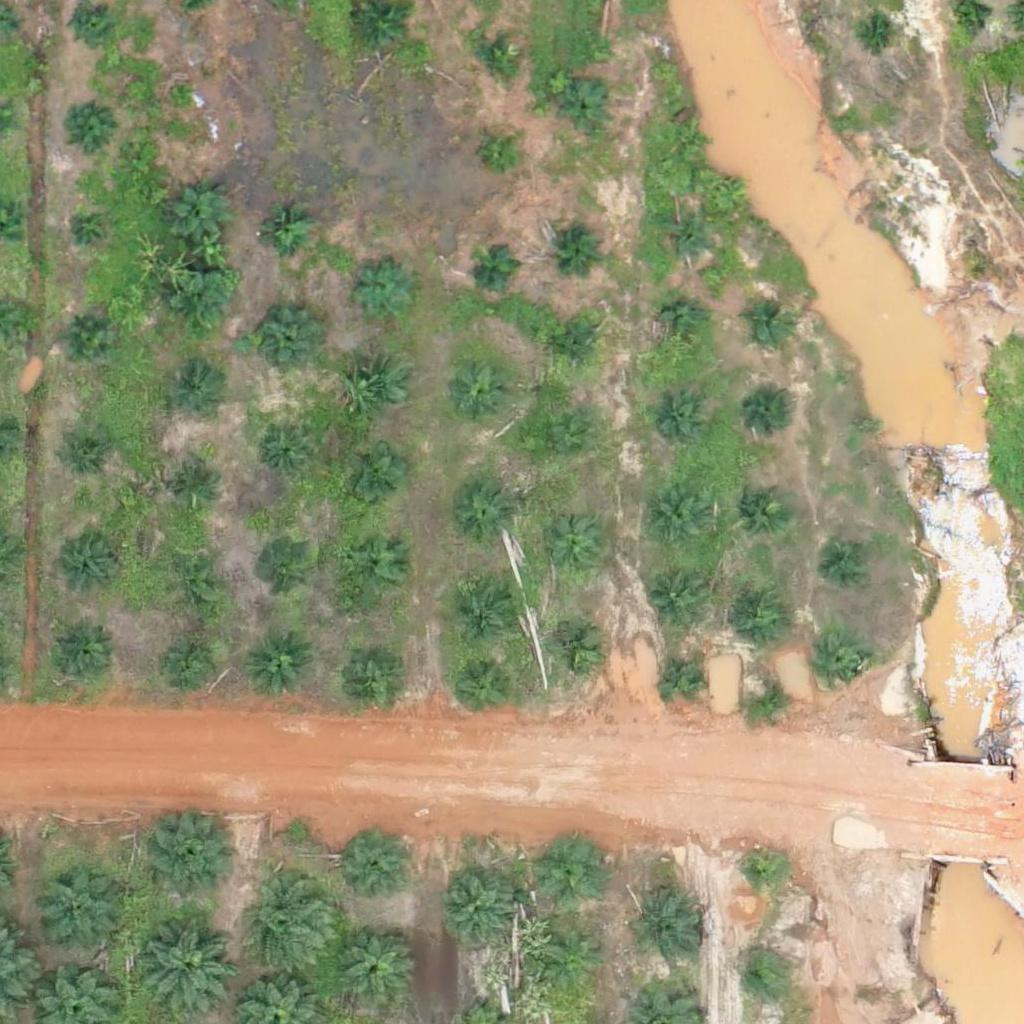Kelapa_Sawit: (240, 876, 340, 976), (135, 909, 235, 1009), (149, 810, 237, 898), (437, 865, 524, 953), (332, 922, 419, 1010), (29, 866, 116, 954), (627, 887, 702, 963), (337, 832, 412, 908), (531, 414, 594, 477), (646, 390, 709, 453), (254, 207, 317, 270), (258, 307, 321, 370), (245, 634, 308, 697), (644, 487, 707, 550), (54, 617, 117, 680), (341, 532, 404, 595), (339, 639, 402, 702), (255, 539, 318, 602), (451, 656, 514, 719), (540, 837, 603, 900), (731, 583, 794, 646), (645, 568, 708, 631), (168, 183, 231, 246), (342, 446, 404, 509), (453, 361, 515, 424), (352, 259, 414, 322), (455, 578, 517, 641), (167, 552, 229, 615), (452, 482, 514, 545), (546, 933, 608, 996), (541, 520, 603, 583), (546, 618, 608, 681), (731, 478, 793, 541), (170, 272, 232, 335), (348, 359, 410, 422), (162, 634, 224, 696), (58, 539, 120, 601), (658, 653, 708, 704), (744, 674, 794, 725), (65, 102, 115, 153), (470, 32, 520, 83), (65, 440, 115, 490), (167, 372, 217, 422), (175, 465, 225, 515), (258, 428, 308, 478), (61, 312, 111, 362), (747, 389, 797, 439), (554, 220, 604, 270), (472, 245, 522, 295), (661, 215, 711, 265), (560, 84, 610, 134), (657, 300, 707, 350), (743, 299, 793, 349), (815, 640, 865, 690), (825, 535, 875, 585), (737, 848, 787, 898), (733, 955, 783, 1005), (551, 324, 601, 374), (65, 204, 115, 254), (669, 122, 707, 160), (481, 133, 519, 171), (860, 14, 898, 52), (72, 2, 109, 40)
